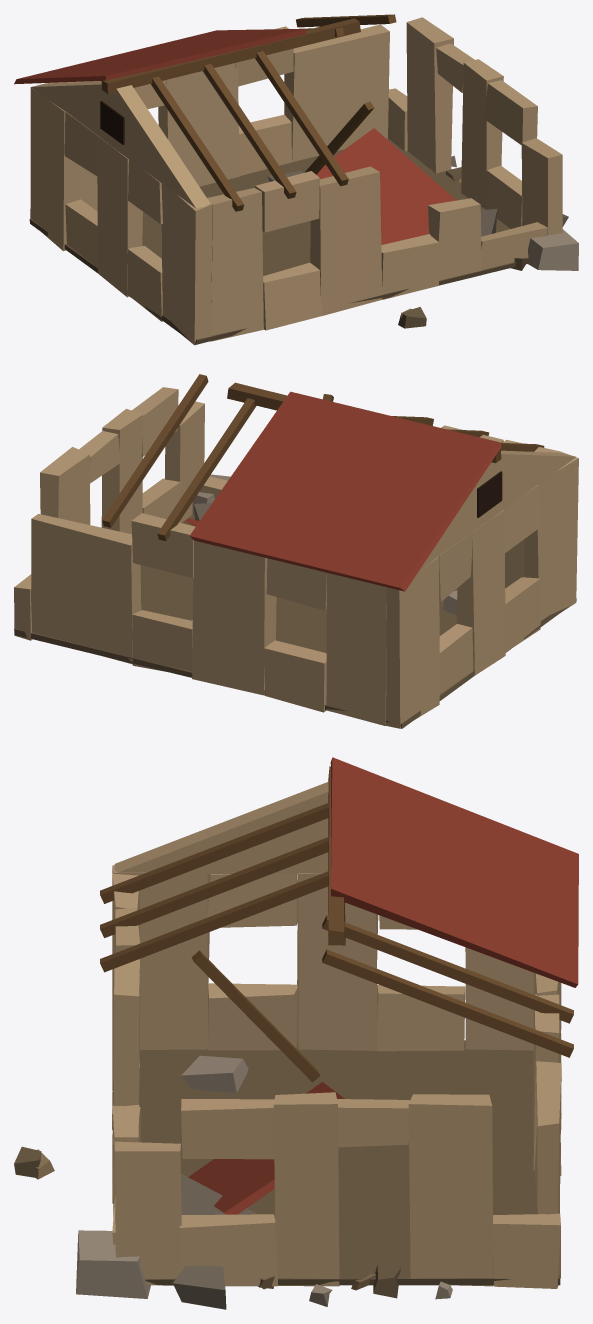
Rendered from ruin_house.glb.
3 renders of one model, top to bottom at view 1: azimuth 30°, elevation 25°; view 2: azimuth 150°, elevation 25°; view 3: azimuth 270°, elevation 25°, orthographic. The views are drawn at different scales.
Parts seen in each view (by area): view 1: ruin_house; view 2: ruin_house; view 3: ruin_house.
Boxes of the visible parts, <box> form: ruin_house: <box>14,14,578,345</box>; ruin_house: <box>14,374,578,728</box>; ruin_house: <box>14,757,578,1309</box>.
Size of the model in its own units: 9.3 by 4.86 by 8.38.
